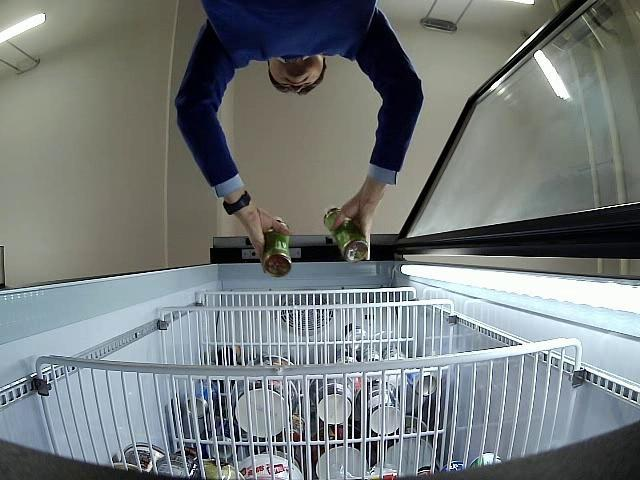19_17cha: (324, 203, 368, 262), (262, 213, 294, 279)
